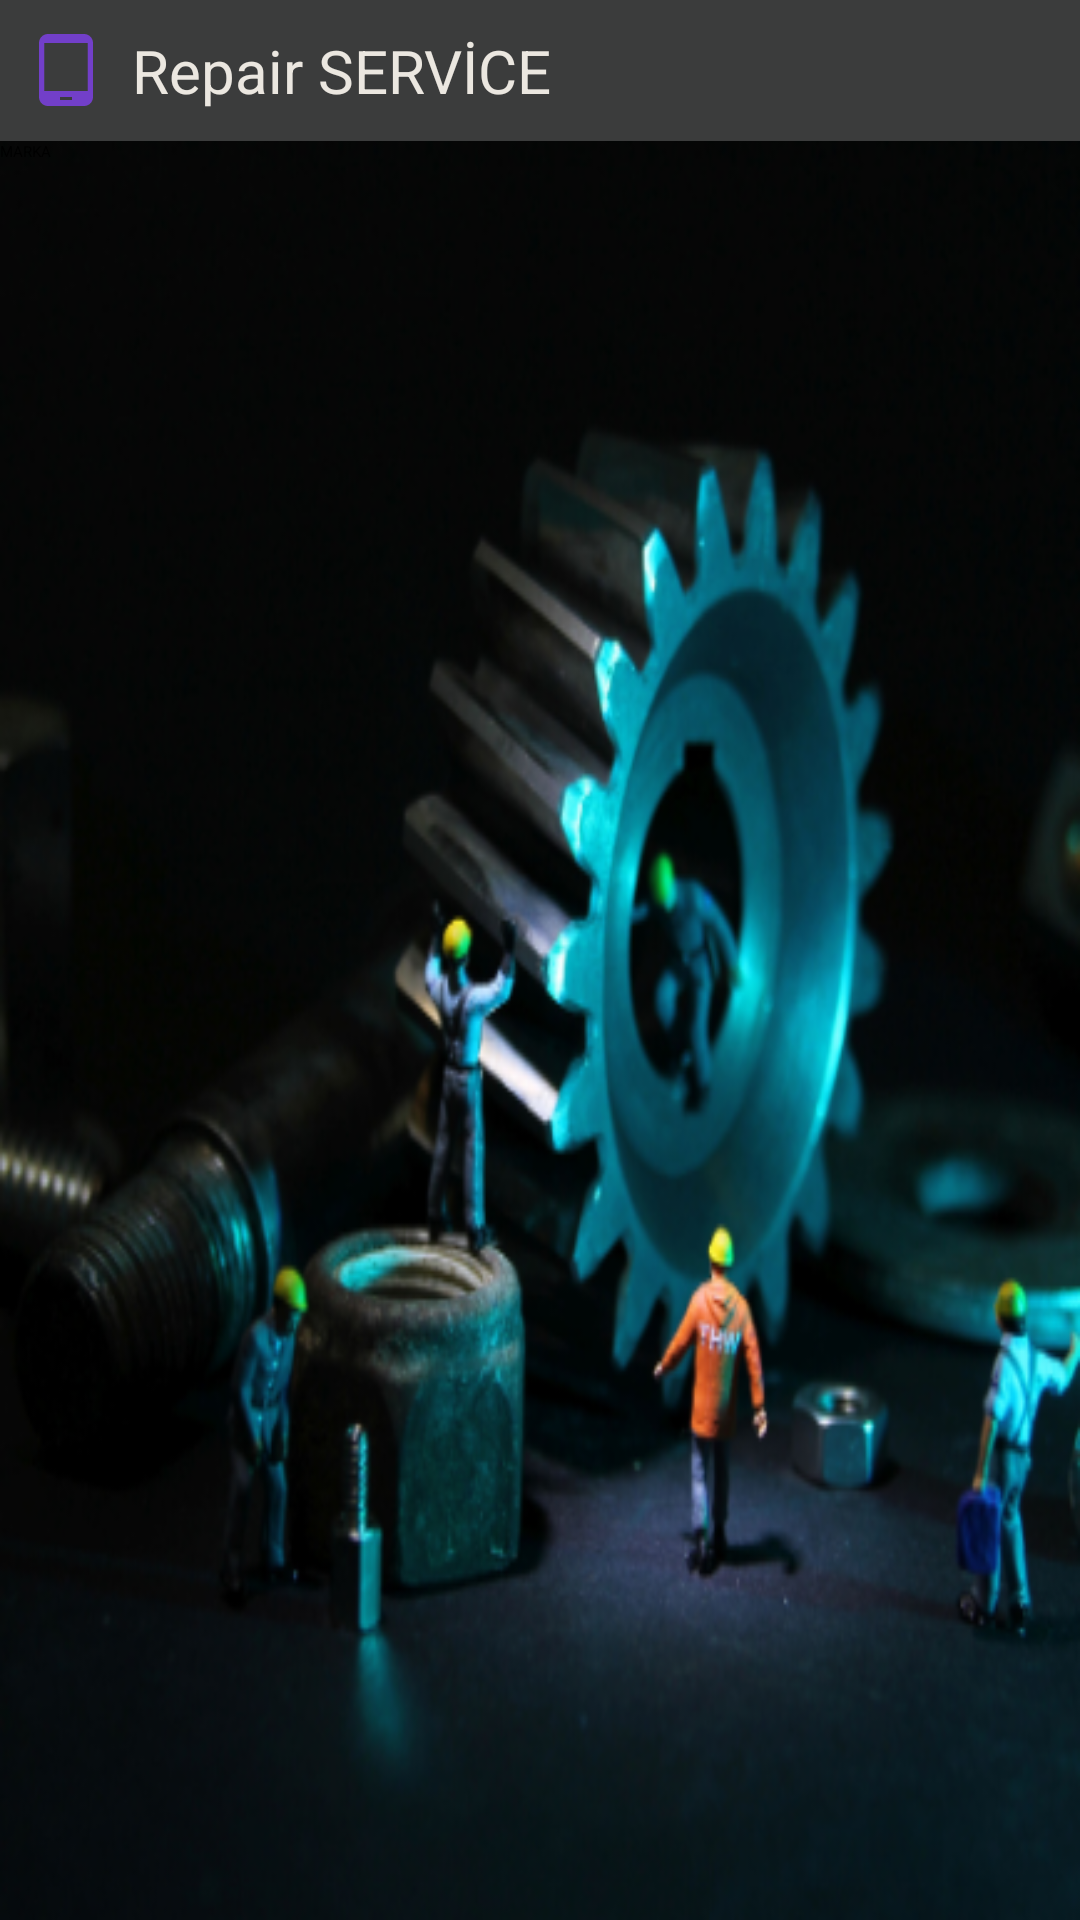

Icon click points for this 1080px×1920px phone screenshot, format (x=x, y=y):
tablet android: (x=66, y=70)
